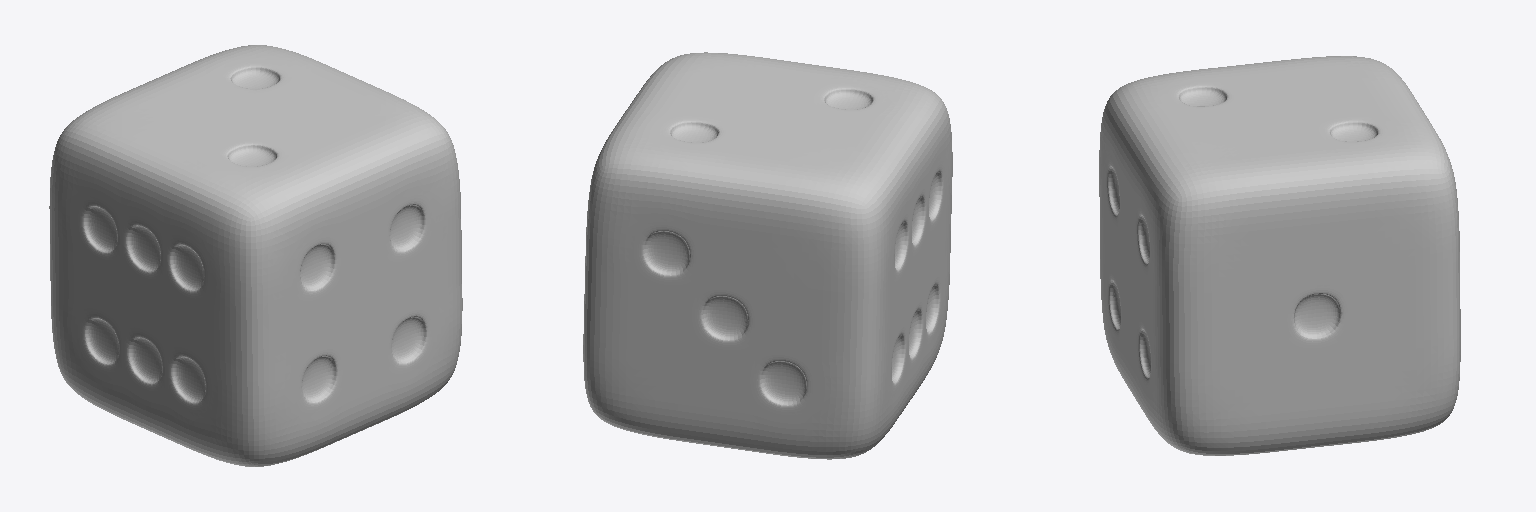
The model's file is dices.obj.
3 views of the same model, side by side, from view 1: azimuth 30°, elevation 25°; view 2: azimuth 150°, elevation 25°; view 3: azimuth 270°, elevation 25° (orthographic).
Visible parts, largest first — view 1: Dice.001; view 2: Dice.001; view 3: Dice.001.
Boxes of the visible parts, box(x1,y1,x2,y2) form: Dice.001: box(49, 45, 462, 466); Dice.001: box(583, 52, 952, 459); Dice.001: box(1099, 56, 1460, 455).
Size of the model in its own units: 1.94 by 1.7 by 1.94.